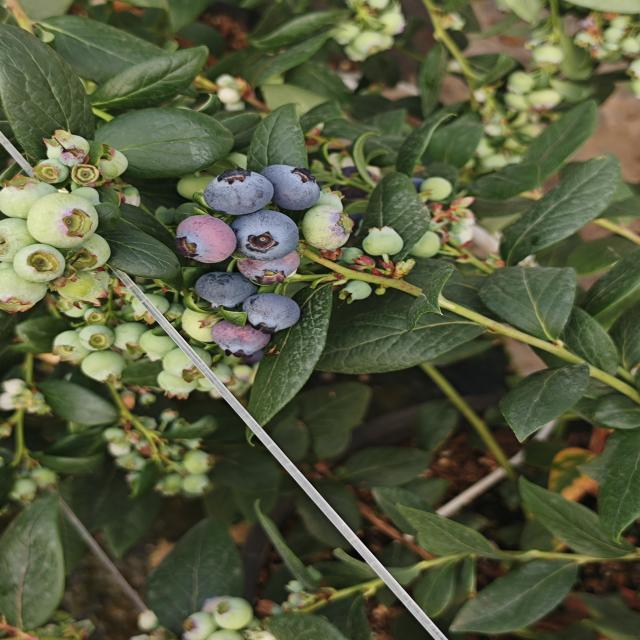ripe: (266, 158, 330, 215), (205, 170, 277, 217), (243, 215, 314, 259), (183, 214, 246, 262), (202, 320, 272, 363), (235, 296, 307, 328), (197, 276, 263, 308), (240, 251, 304, 283)
